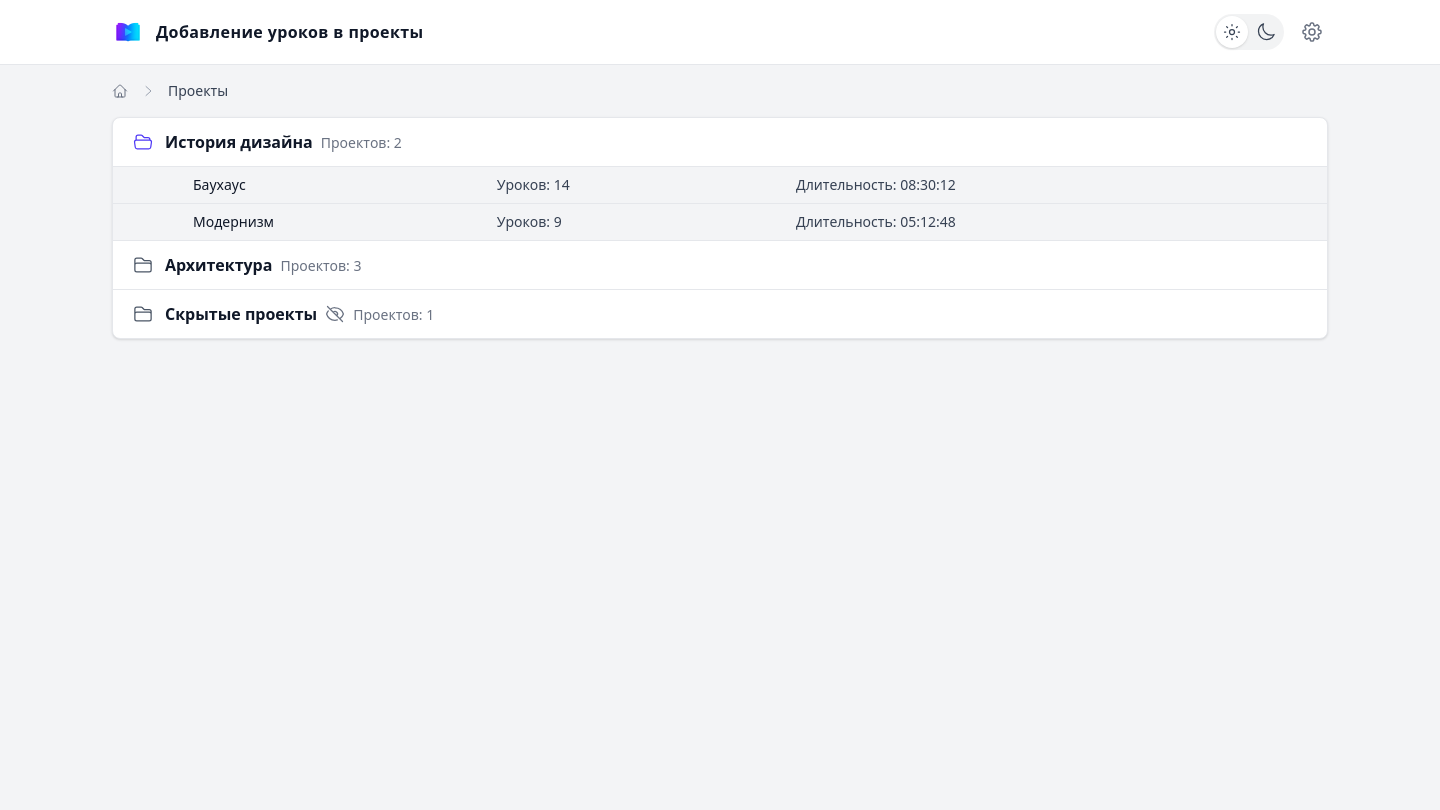
Test: App settings dialog › opens the modal from the header and saves the token
Click the button named "Открыть настройки". click: (1312, 32)
box: [1296,16,1328,48]
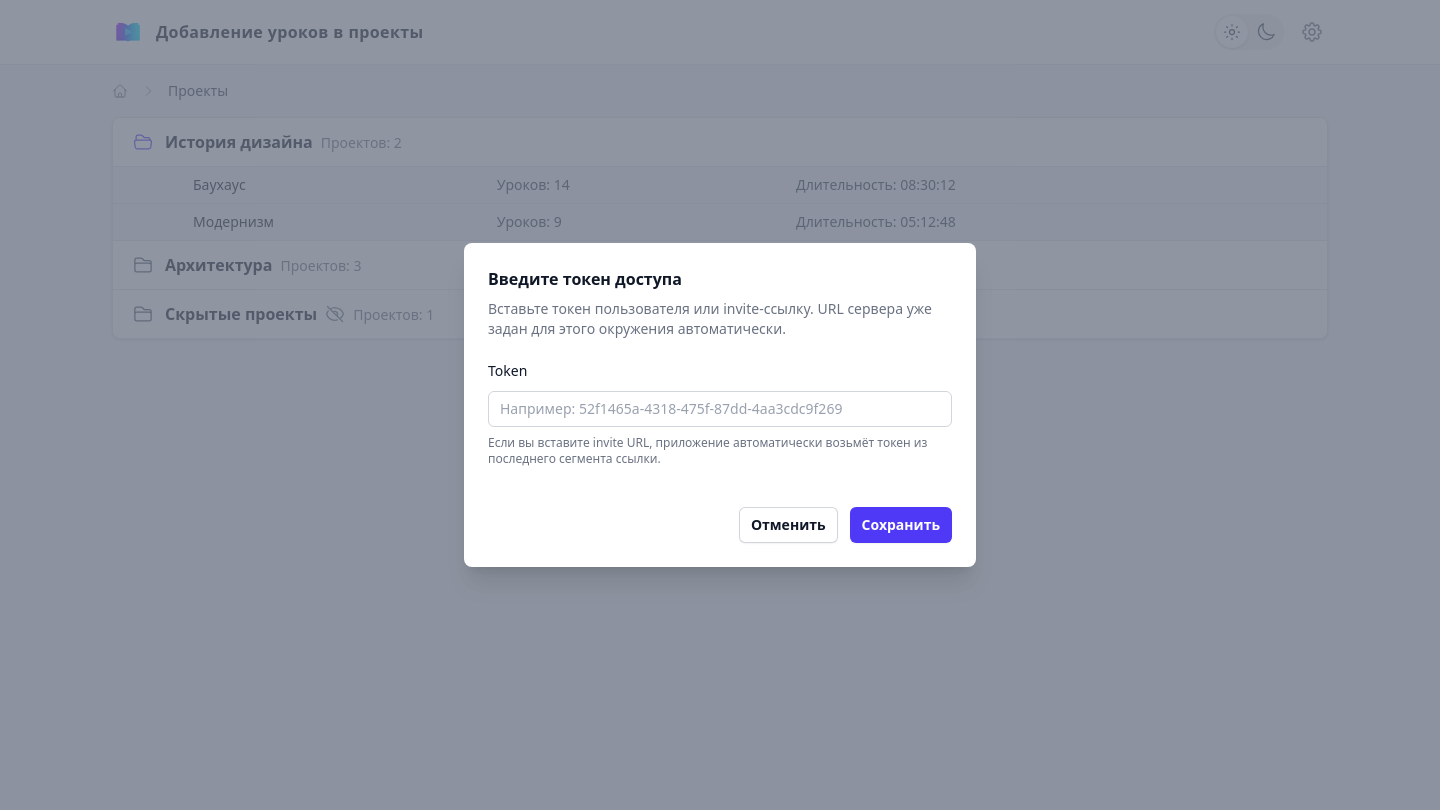
Check: the text "Введите токен доступа" is shown, box [488,268,682,290]
Type "http://video2book.test/invite/52f1465a-4318-475f-87dd-4aa3cdc9f269" into the field with id "settings-access-token". click: (720, 409)
box: [488,391,952,427]
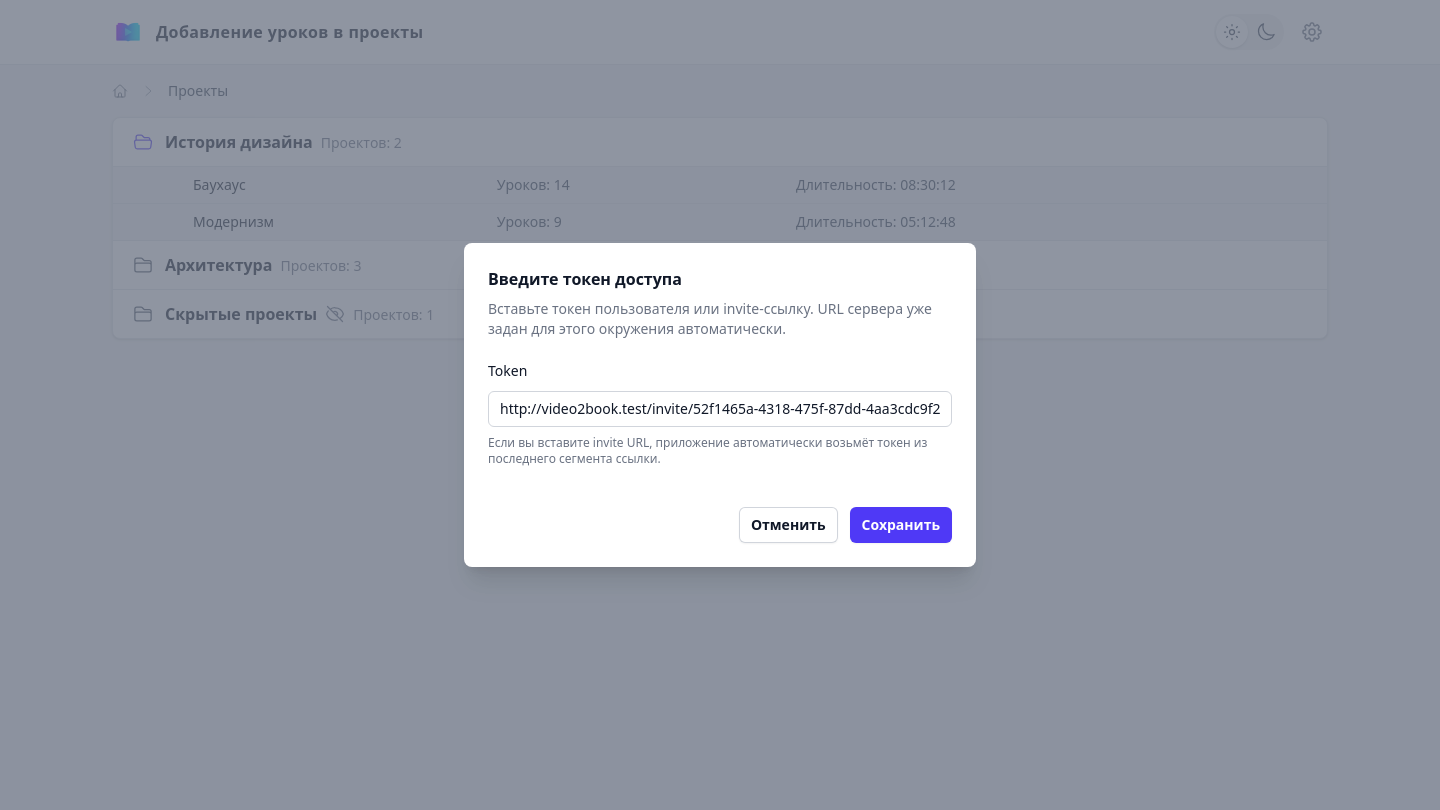
Submit the form, box [488,267,952,543]
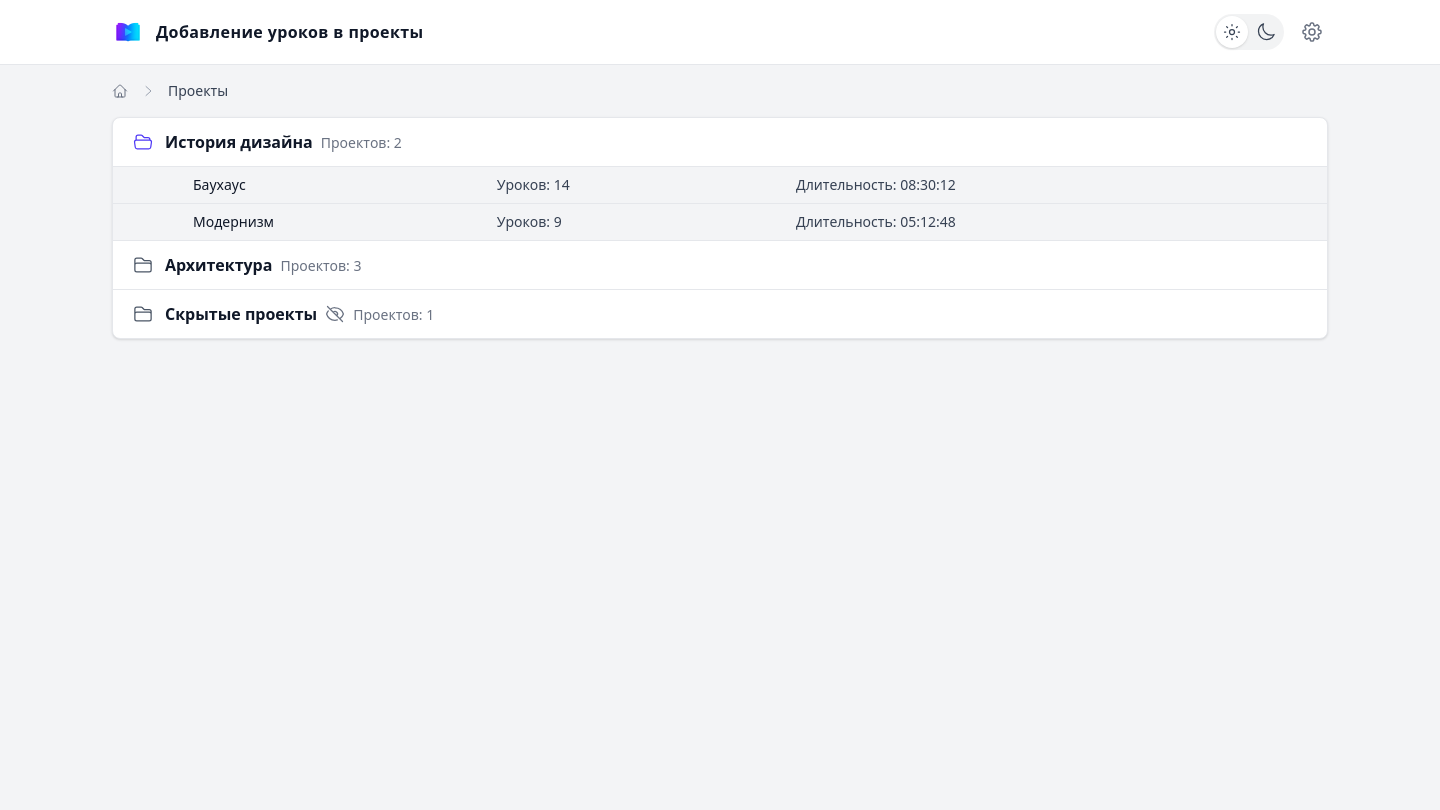
Check: the text "Введите токен доступа" is gone
